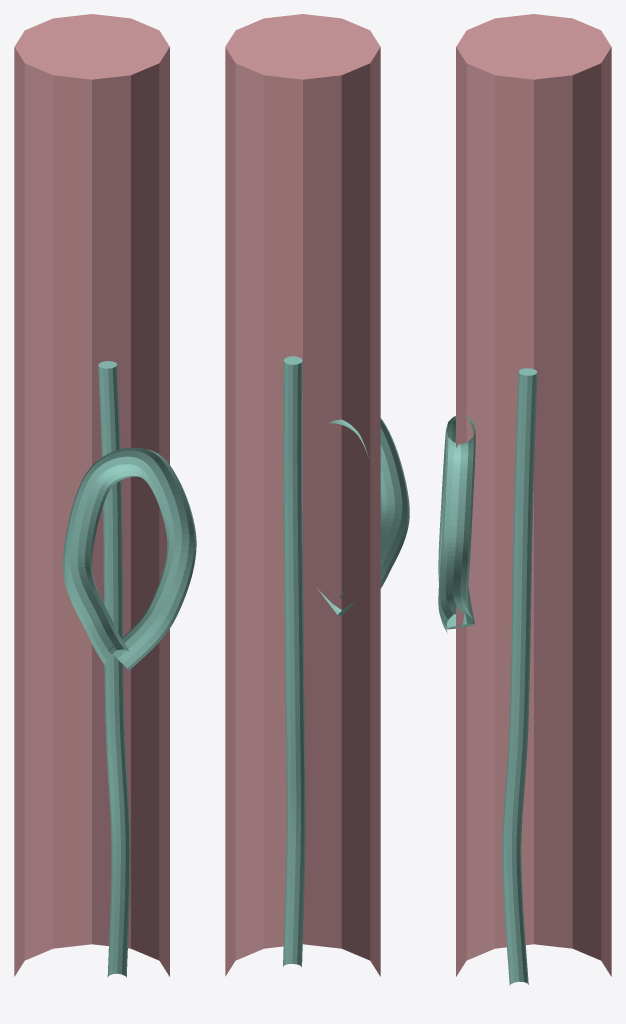
File: devices_balloon.glb
The picture shows the model from 3 angles, left to right: view 1: azimuth 30°, elevation 25°; view 2: azimuth 150°, elevation 25°; view 3: azimuth 270°, elevation 25°; orthographic projection.
Visible parts, largest first — view 1: Vaso de referência, Balão — contorno didático, Microcateter — linha didática; view 2: Vaso de referência, Microcateter — linha didática, Balão — contorno didático; view 3: Vaso de referência, Microcateter — linha didática, Balão — contorno didático.
Part boxes in pixels (box(x1,y1,x2,y2)): Vaso de referência: box(14, 14, 169, 976); Balão — contorno didático: box(63, 447, 196, 670); Microcateter — linha didática: box(98, 361, 130, 977); Vaso de referência: box(225, 14, 380, 976); Microcateter — linha didática: box(283, 356, 305, 966); Balão — contorno didático: box(317, 418, 409, 615); Vaso de referência: box(456, 14, 611, 976); Microcateter — linha didática: box(502, 368, 537, 985); Balão — contorno didático: box(438, 416, 475, 633).
Bounding box in the file's own units: 1.06 × 7 × 1.18.
